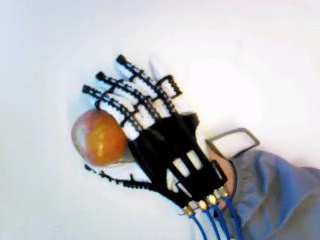apple: (72, 106, 126, 166)
hand: (77, 53, 225, 213)
